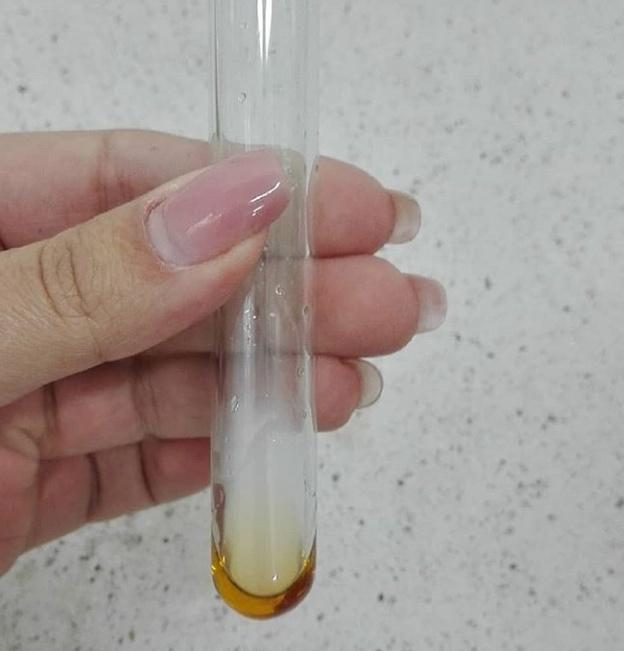Test tube: (200, 30, 327, 614)
